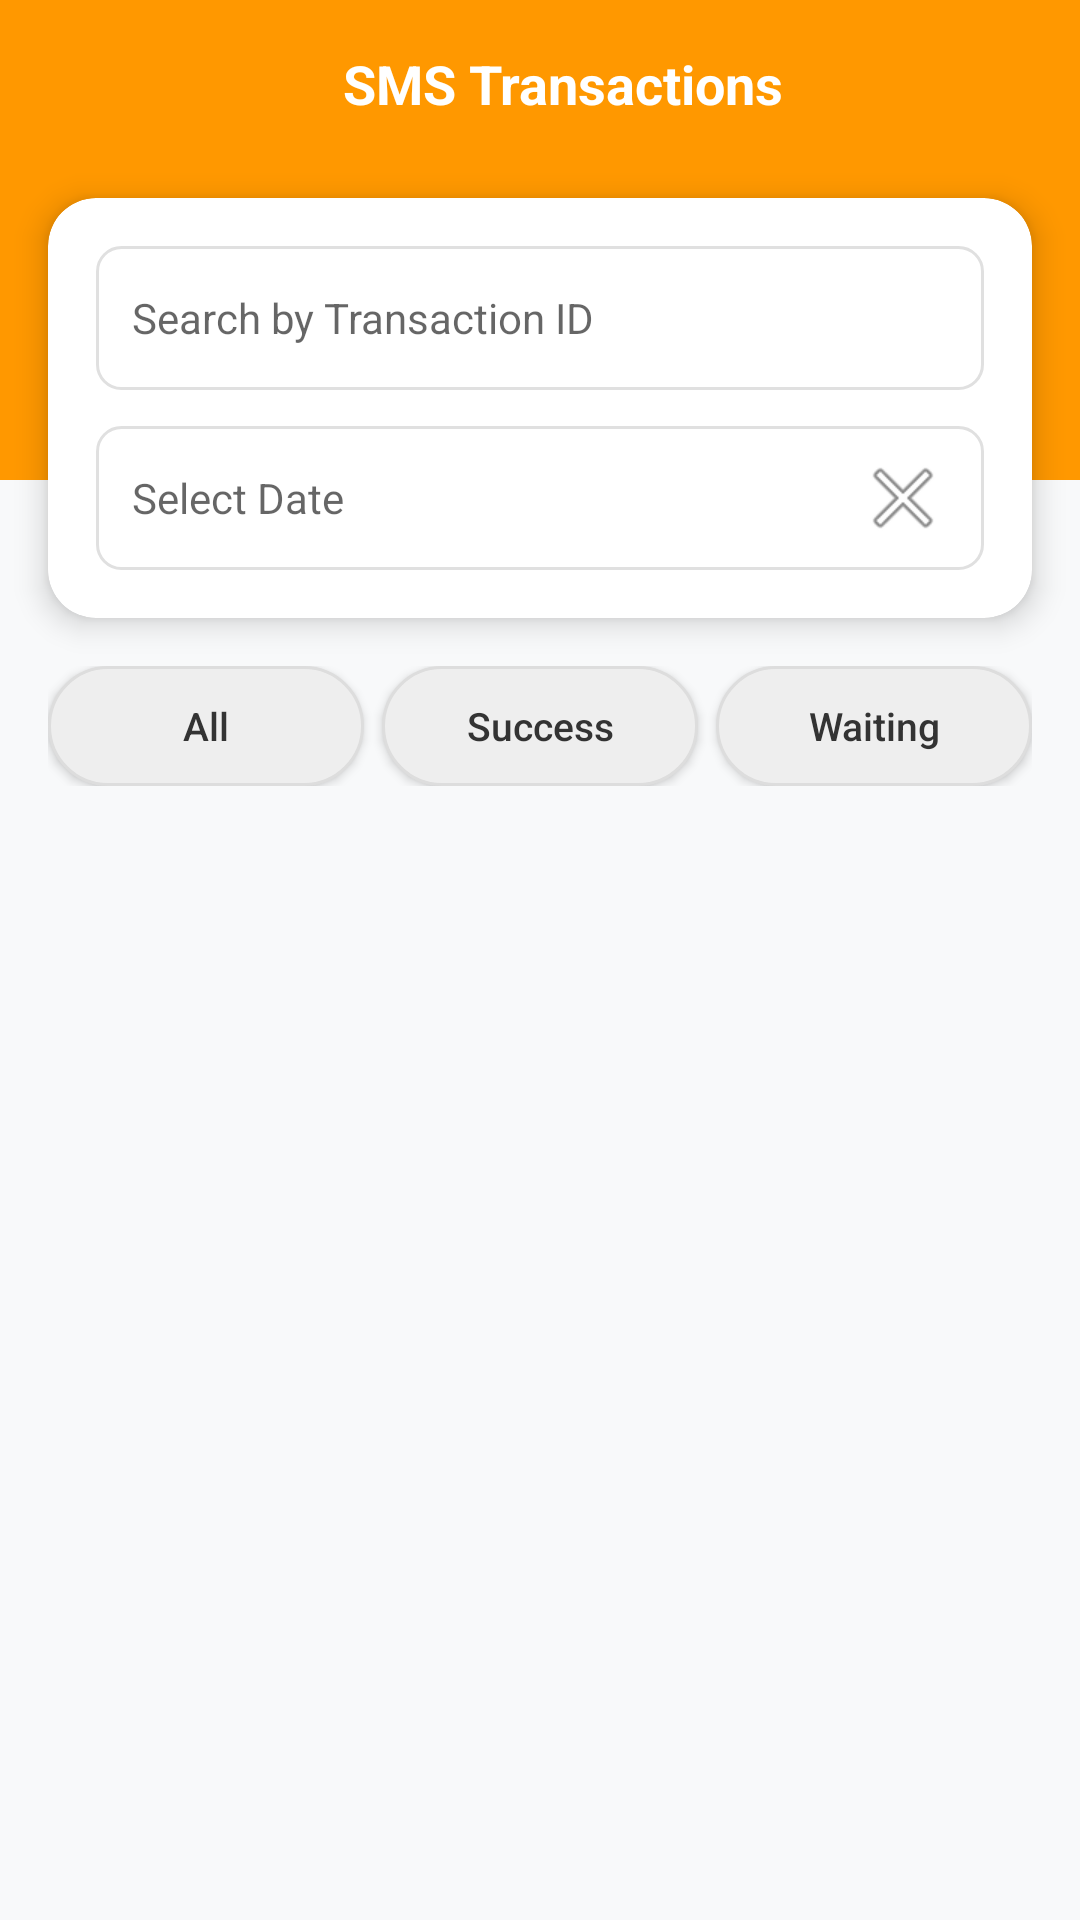

Where to tap for icons on this 1080x1920 app screen, as [x,y]:
Clear date: [903,498]
